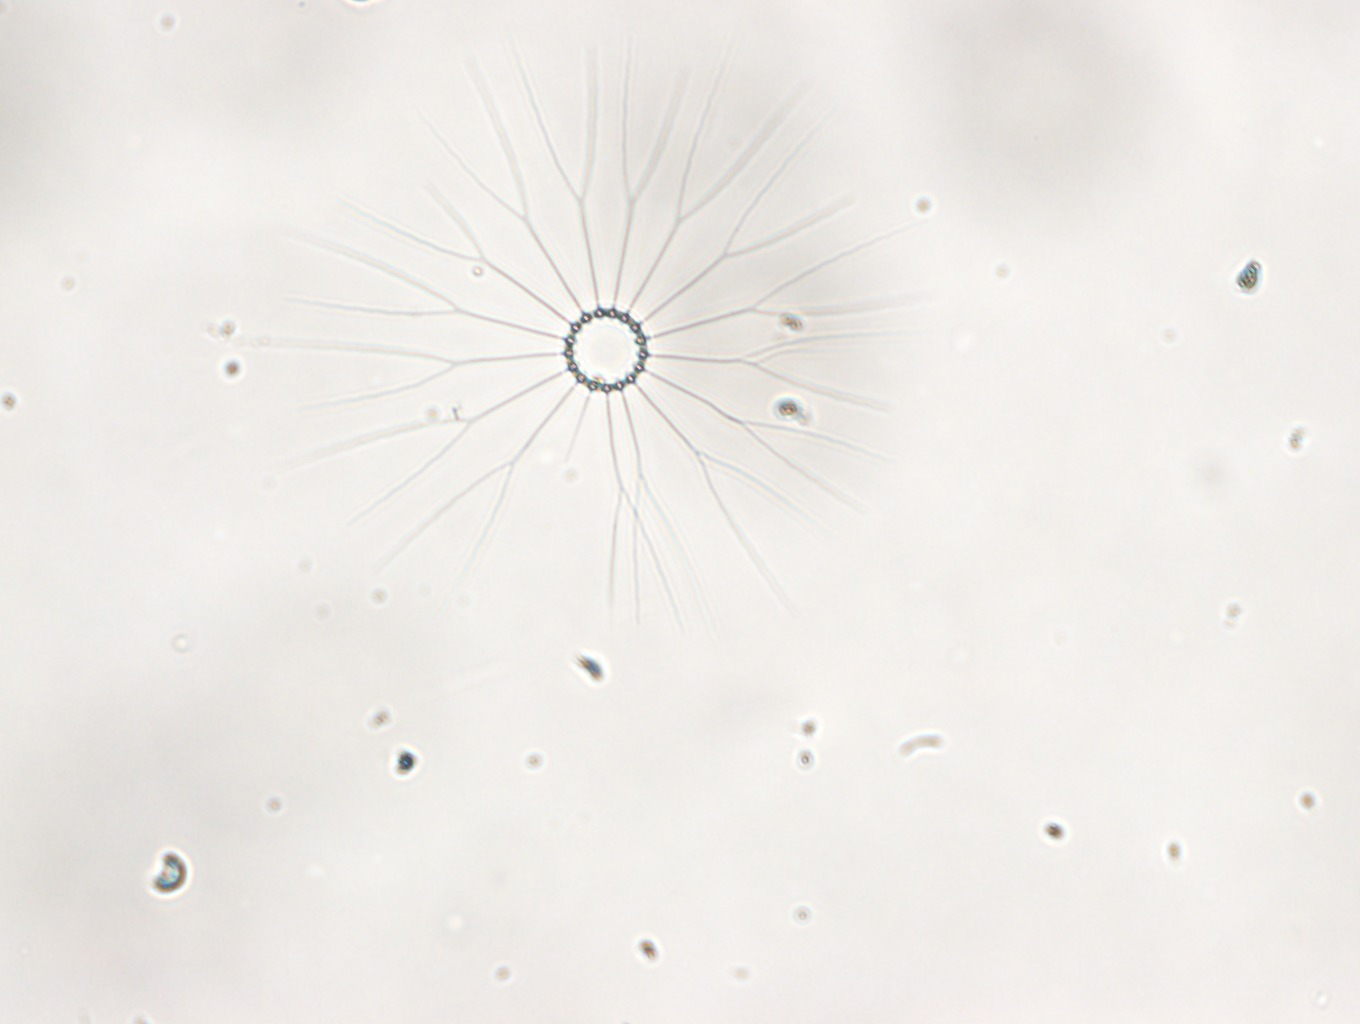bacteriastrum: (276, 28, 924, 624)
